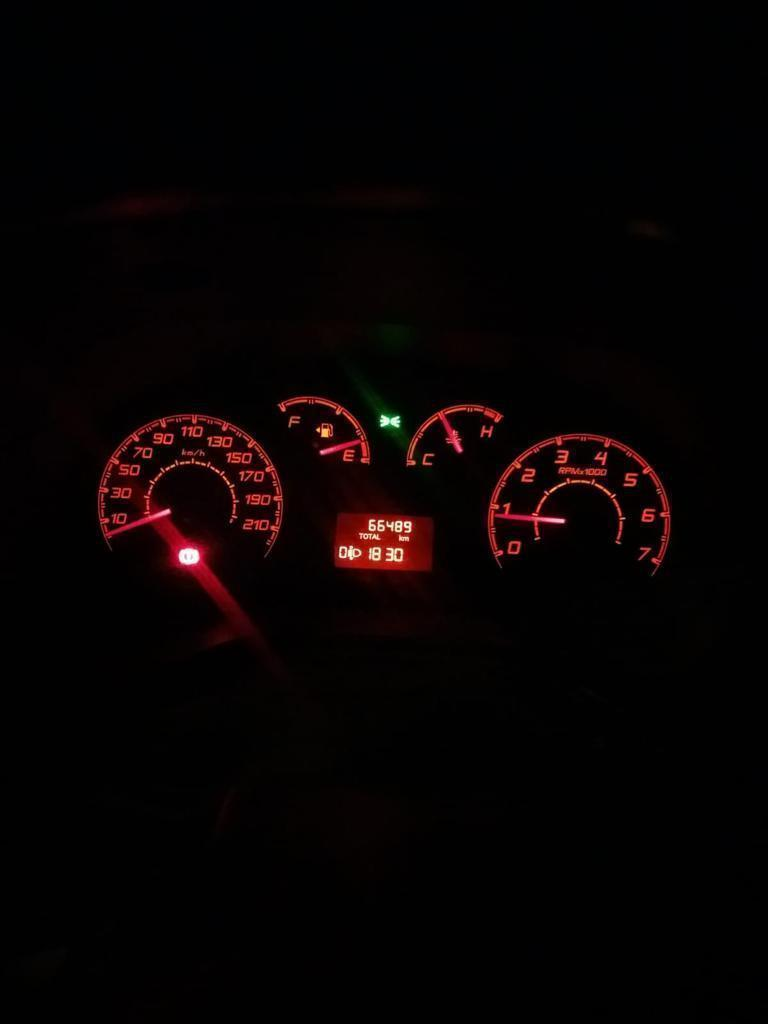0: (394, 547, 403, 562), (338, 545, 347, 559)
1: (368, 546, 371, 561)
3: (385, 547, 393, 561)
4: (385, 520, 394, 532)
6: (377, 518, 385, 531), (368, 519, 376, 531)
8: (372, 546, 381, 561), (394, 520, 403, 533)
9: (403, 520, 412, 533)
X: (402, 535, 409, 542), (376, 533, 381, 540), (363, 532, 368, 539), (358, 532, 363, 539), (372, 532, 376, 540), (398, 534, 402, 541), (368, 533, 372, 539)
odometer: (331, 510, 436, 572)
